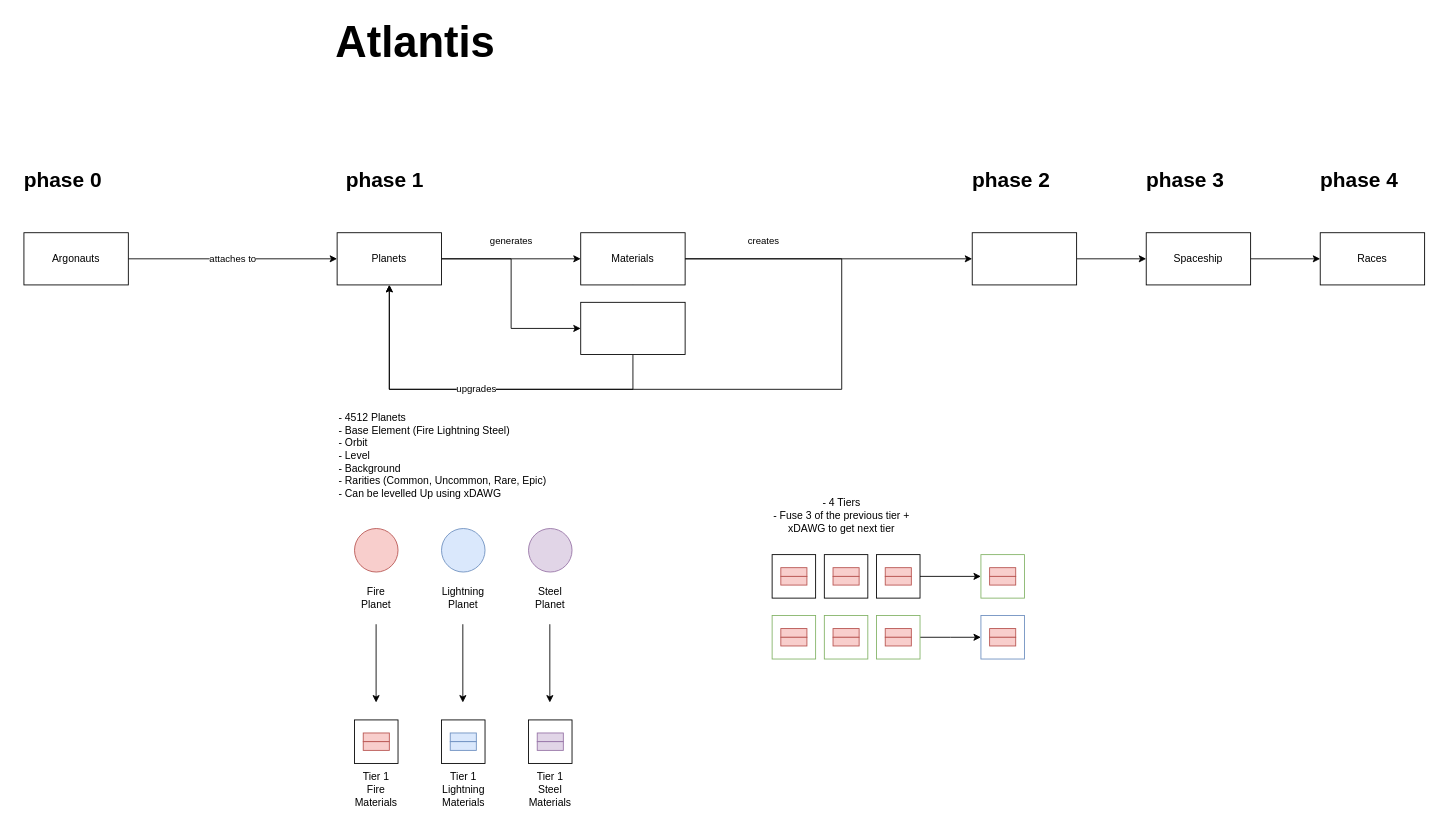
The diagram is 1440 pixels wide and 823 high, and some of its shapes have lost their labels. Each missing label, with the centre of its shape:
"Components" belongs at (1024,258).
"xDAWG" belongs at (632,328).
